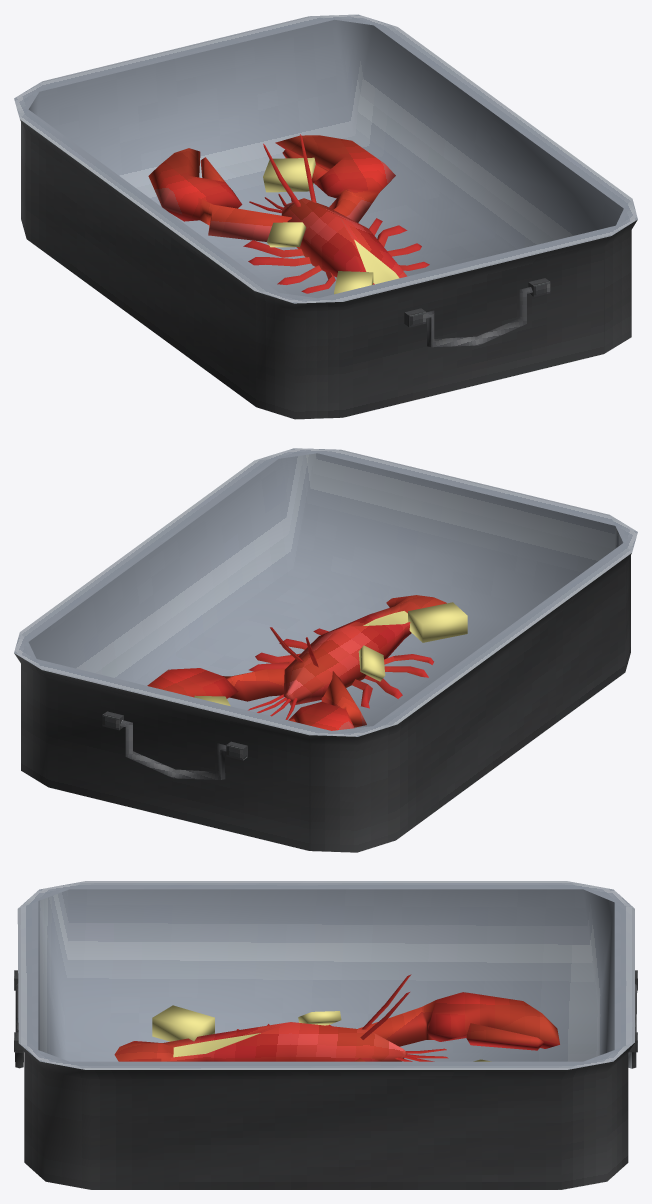
Rendered from RoastingPan_Lobster.fbx.
3 renders of one model, top to bottom at view 1: azimuth 30°, elevation 25°; view 2: azimuth 150°, elevation 25°; view 3: azimuth 270°, elevation 25°, orthographic. The views are drawn at different scales.
Visible parts, largest first — view 1: RoastPan_Lobster; view 2: RoastPan_Lobster; view 3: RoastPan_Lobster.
Part boxes in pixels (bbox=[...]): RoastPan_Lobster: bbox=[14, 14, 637, 419]; RoastPan_Lobster: bbox=[14, 448, 637, 852]; RoastPan_Lobster: bbox=[14, 881, 637, 1189].
Size of the model in its own units: 46.21 by 13.91 by 64.45.
